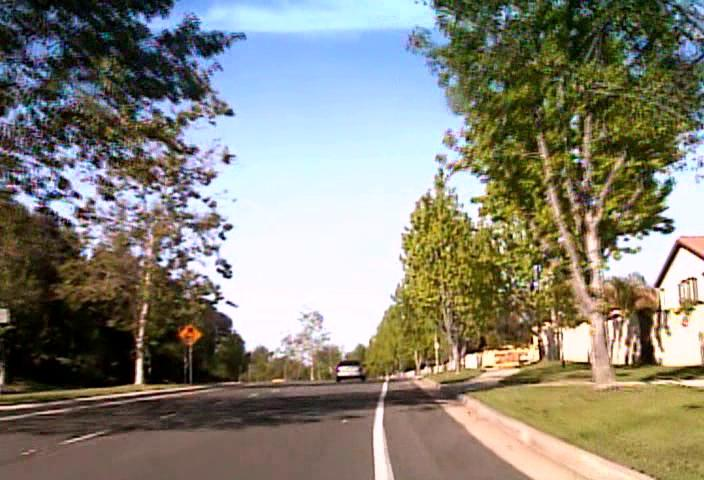signalAhead: (175, 322, 202, 347)
